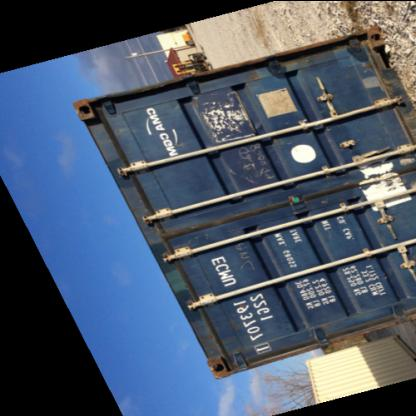Damage: (220, 140, 280, 192), (343, 34, 391, 92), (202, 94, 257, 140), (315, 320, 394, 350), (78, 100, 109, 128)
